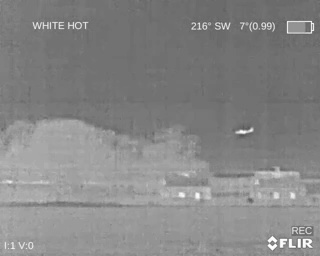AIRPLANE: (233, 126, 255, 136)
